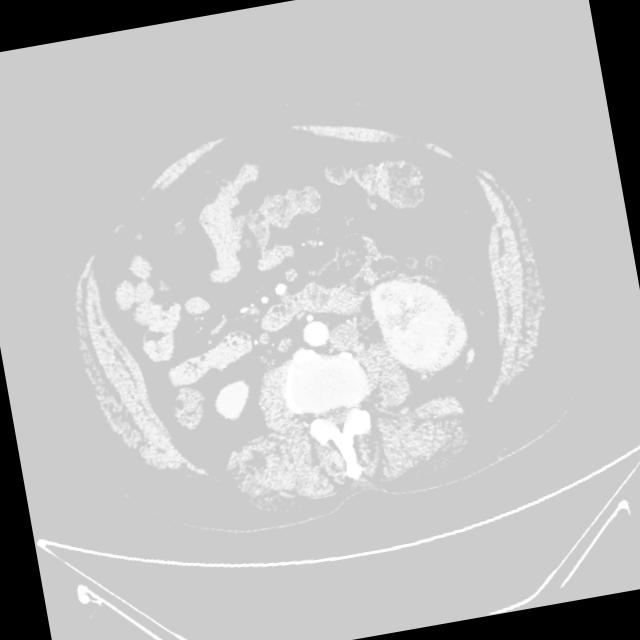TUMOR: (82, 136, 475, 367)
